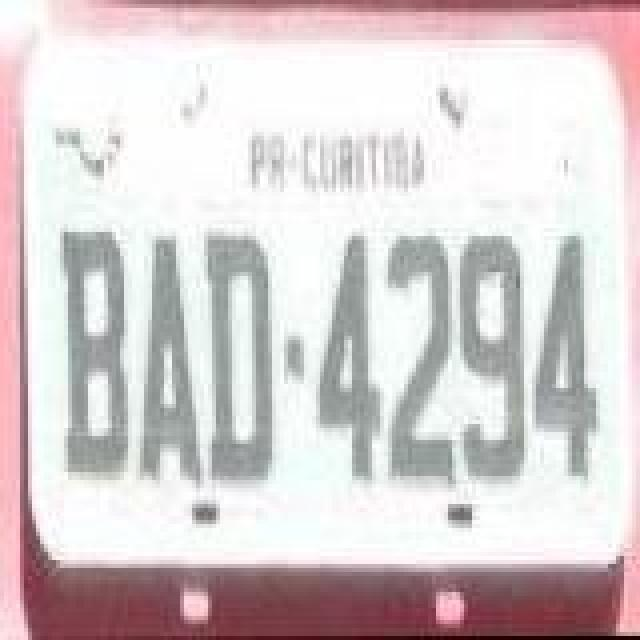2: (384, 228, 456, 480)
4: (312, 230, 384, 486), (532, 232, 596, 480)
9: (456, 230, 528, 486)
A: (132, 232, 204, 496)
B: (60, 230, 132, 482)
D: (204, 226, 276, 490)
